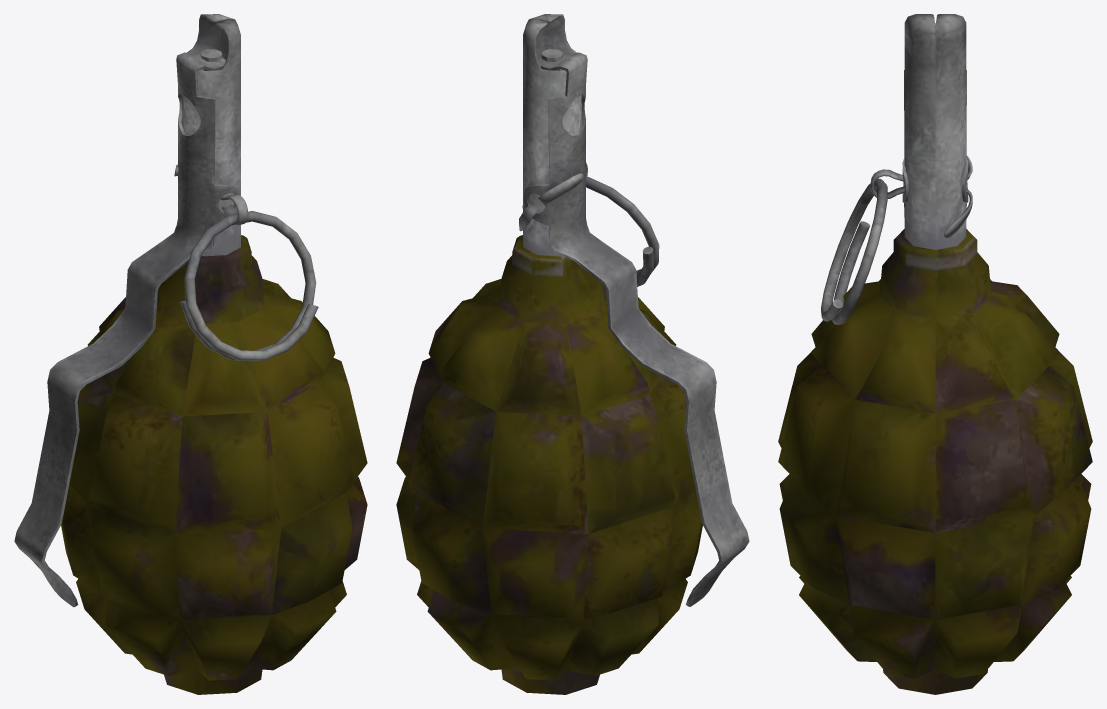
3 views of the same model, side by side, from view 1: azimuth 30°, elevation 25°; view 2: azimuth 150°, elevation 25°; view 3: azimuth 270°, elevation 25° (orthographic).
Parts seen in each view (by area): view 1: Granata_low.001, Ruchka_low.001, Kolco_low.001, Pimpa_low.001; view 2: Granata_low.001, Ruchka_low.001, Kolco_low.001, Pimpa_low.001; view 3: Granata_low.001, Kolco_low.001, Pimpa_low.001, Ruchka_low.001.
Part boxes in pixels (left/top/right/bottom): Granata_low.001: left=61, top=14, right=367, bottom=694; Ruchka_low.001: left=14, top=52, right=239, bottom=607; Kolco_low.001: left=180, top=211, right=318, bottom=361; Pimpa_low.001: left=174, top=164, right=248, bottom=225; Granata_low.001: left=396, top=14, right=702, bottom=694; Ruchka_low.001: left=523, top=52, right=749, bottom=606; Kolco_low.001: left=522, top=176, right=659, bottom=286; Pimpa_low.001: left=519, top=162, right=587, bottom=231; Granata_low.001: left=778, top=14, right=1092, bottom=694; Kolco_low.001: left=821, top=178, right=887, bottom=324; Pimpa_low.001: left=870, top=155, right=972, bottom=237; Ruchka_low.001: left=902, top=70, right=968, bottom=217.
Size of the model in its own units: 263 by 515 by 222.
1 material, 1 textured.
